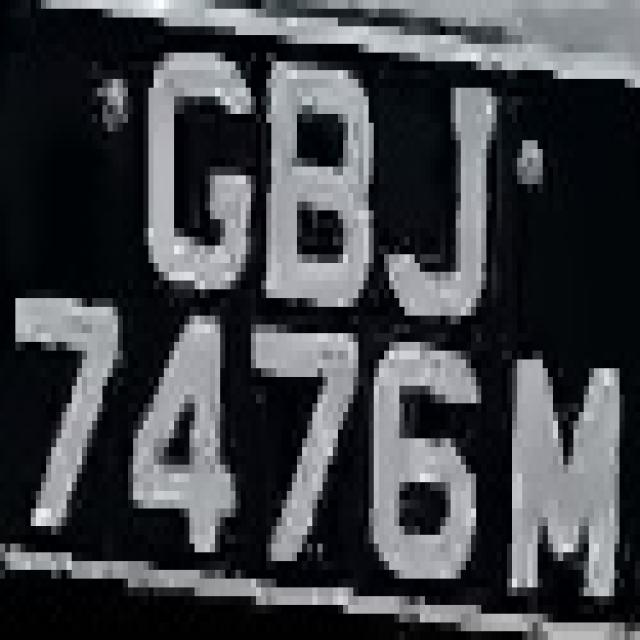4: (118, 281, 251, 578)
6: (358, 333, 476, 623)
7: (246, 272, 353, 587), (10, 263, 123, 552)
B: (261, 44, 384, 333)
G: (143, 0, 240, 324)
J: (384, 62, 507, 324)
M: (481, 333, 640, 614)
